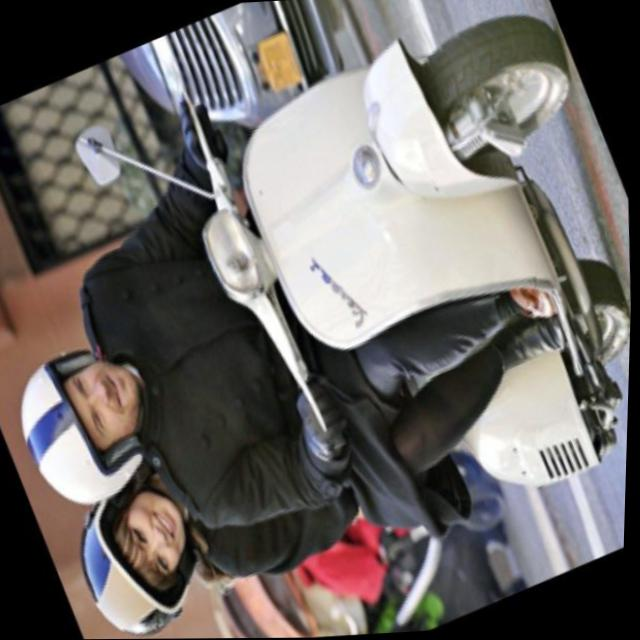WITH_HELMET: (0, 317, 181, 532), (56, 473, 227, 640)
